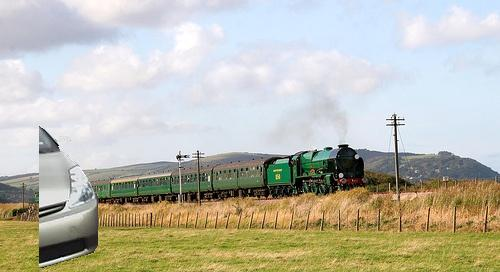tampered: (40, 127, 98, 268)
